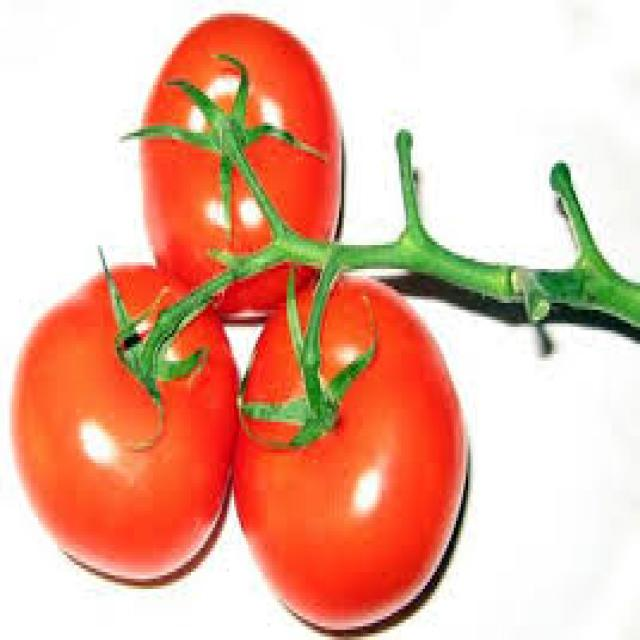organic waste: (232, 269, 468, 633), (12, 262, 234, 586), (127, 17, 339, 320)
